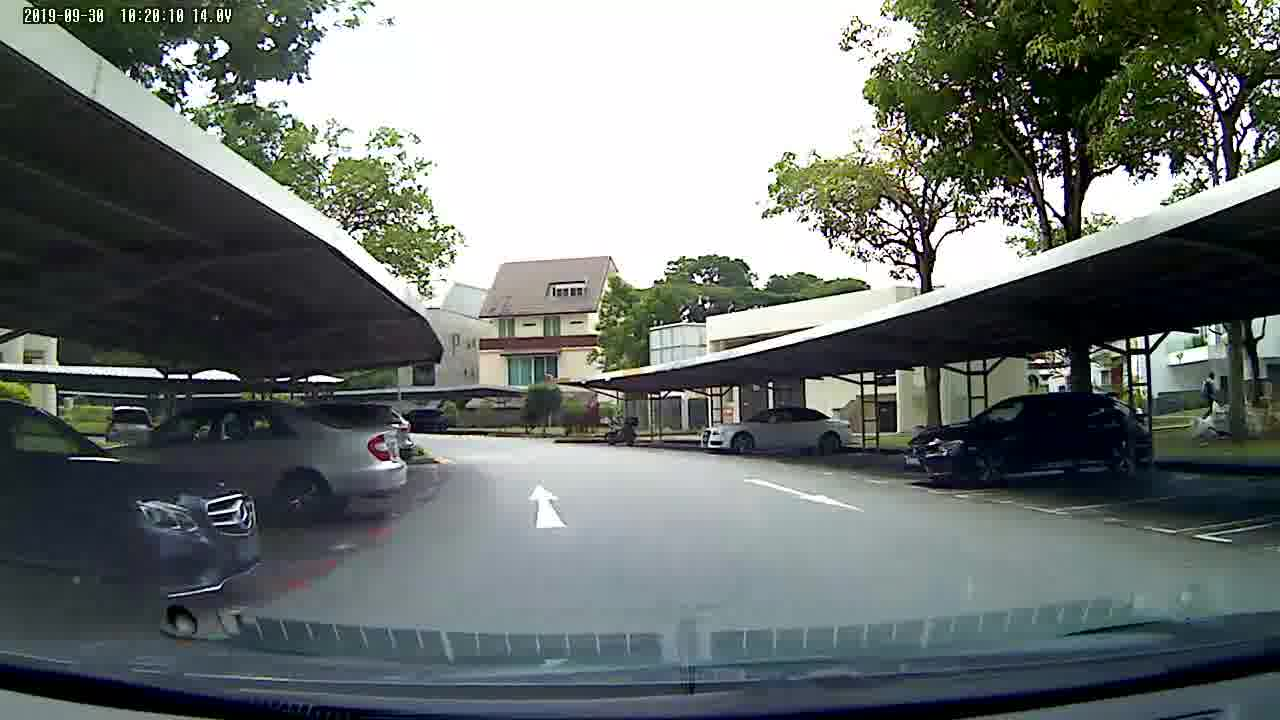car: (1, 388, 270, 608), (904, 388, 1159, 496), (687, 403, 863, 464)
